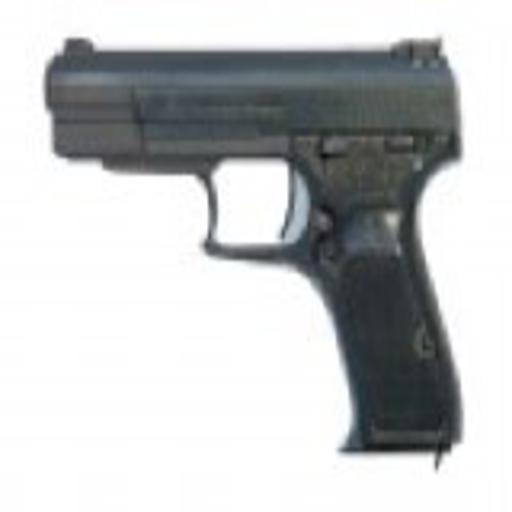Handgun: (43, 28, 466, 468)
